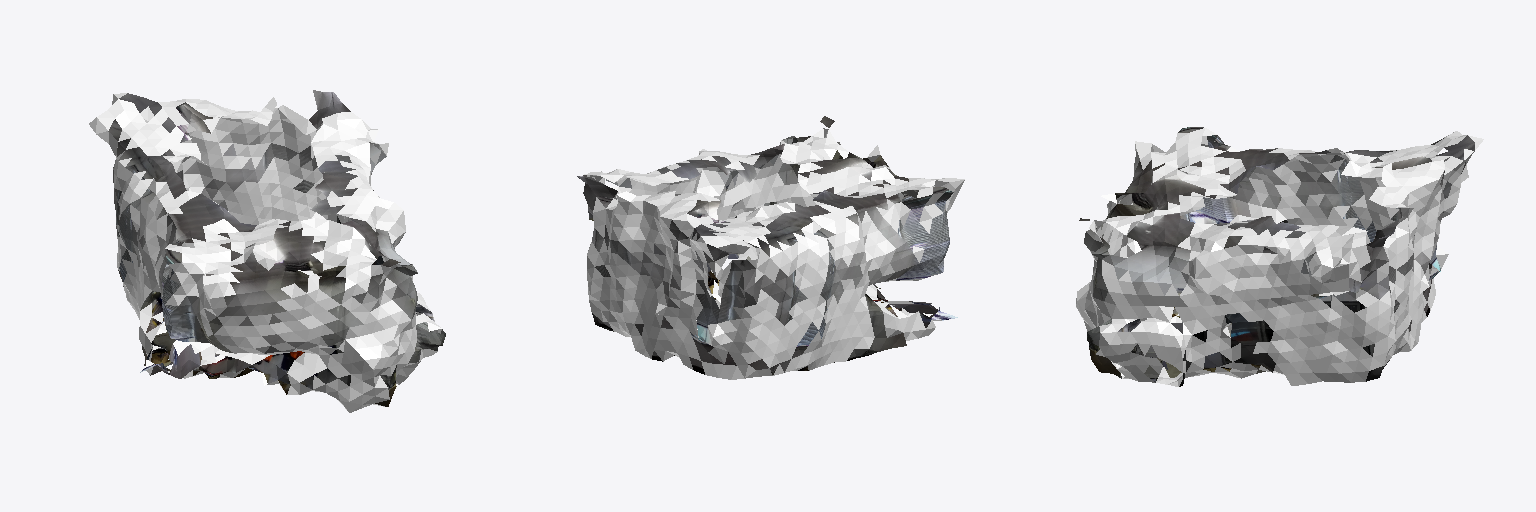
3 renders of one model, left to right at view 1: azimuth 30°, elevation 25°; view 2: azimuth 150°, elevation 25°; view 3: azimuth 270°, elevation 25°, orthographic.
Size of the model in its own units: 7.77 by 4.8 by 8.97.
4 materials, 3 textured.